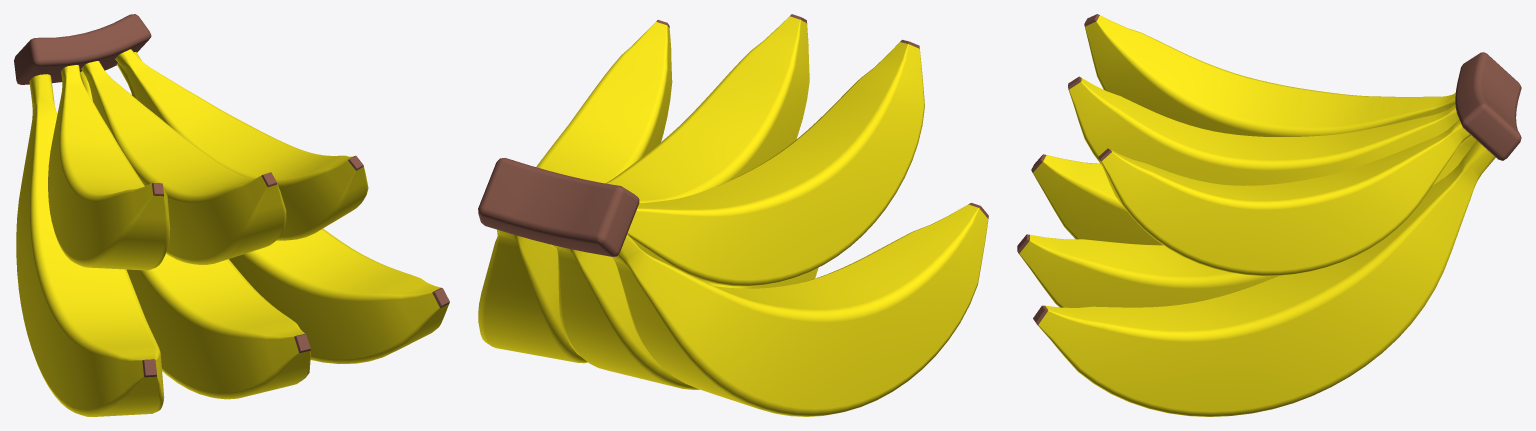
Rendered from Store_19_Bunch_of_Bananas_2.glb.
The picture shows the model from 3 angles, left to right: view 1: azimuth 30°, elevation 25°; view 2: azimuth 150°, elevation 25°; view 3: azimuth 270°, elevation 25°; orthographic projection. The views are drawn at different scales.
Visible parts, largest first — view 1: Store_19_Bunch_of_Bananas_2; view 2: Store_19_Bunch_of_Bananas_2; view 3: Store_19_Bunch_of_Bananas_2.
Boxes of the visible parts, x1,y1,x2,y2 form: Store_19_Bunch_of_Bananas_2: [14, 14, 449, 416]; Store_19_Bunch_of_Bananas_2: [478, 14, 988, 416]; Store_19_Bunch_of_Bananas_2: [1017, 14, 1521, 416].
Size of the model in its own units: 0.4398 by 0.3302 by 0.5509.
Materials: 1 (1 with a texture image).
